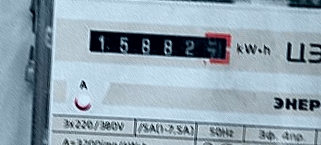1: (95, 32, 107, 51)
2: (183, 37, 196, 56)
5: (117, 35, 130, 53)
7: (205, 46, 217, 58)
8: (161, 36, 174, 55), (138, 36, 152, 53)
screen: (80, 18, 237, 71)
